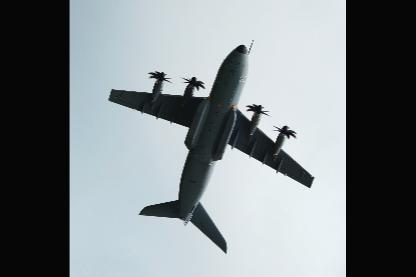A400M: (108, 38, 314, 252)
